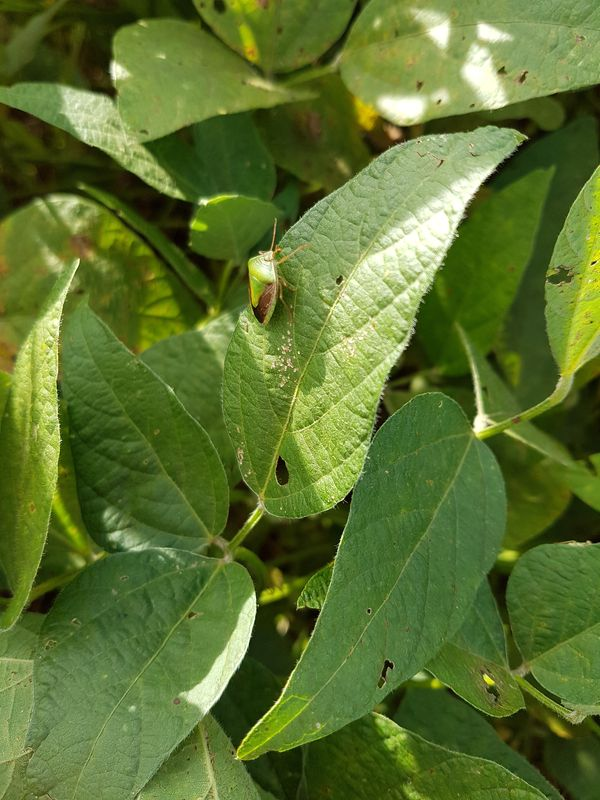Edessa_meditabunda: (220, 213, 313, 329)
